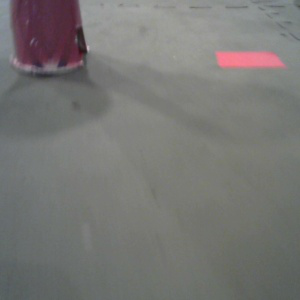middle: (7, 1, 91, 74)
